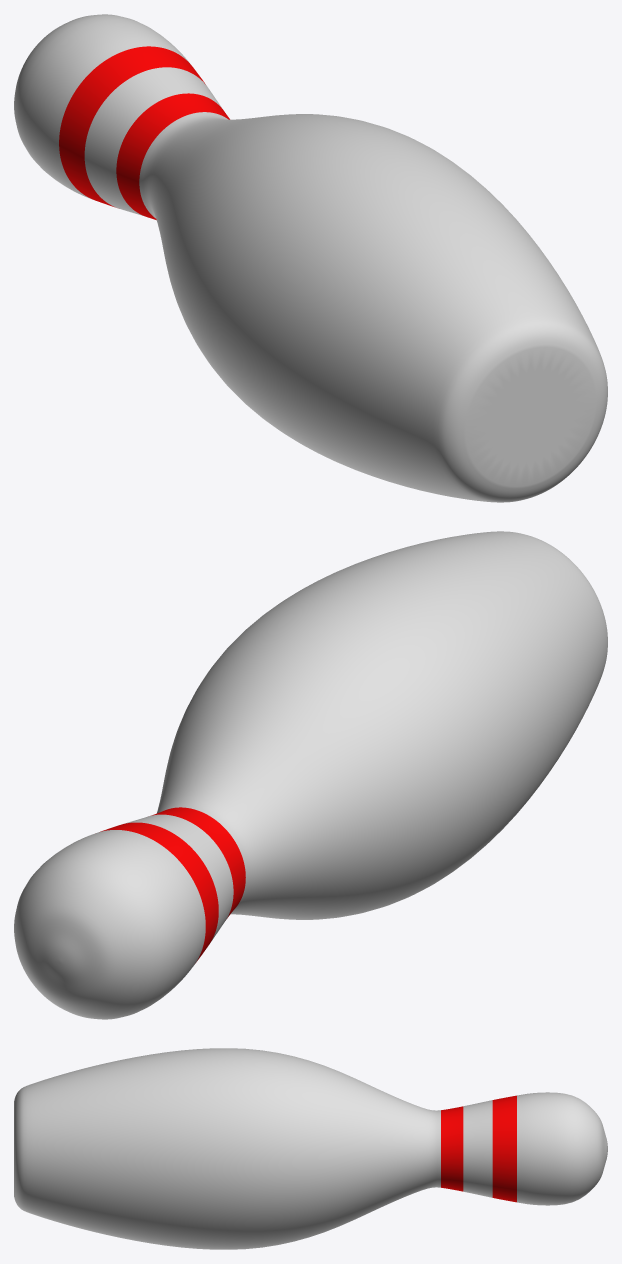
File: pin.fbx
3 views of the same model, one above another, from view 1: azimuth 30°, elevation 25°; view 2: azimuth 150°, elevation 25°; view 3: azimuth 270°, elevation 25° (orthographic). The views are drawn at different scales.
Parts seen in each view (by area): view 1: imagetostl_mesh1; view 2: imagetostl_mesh1; view 3: imagetostl_mesh1.
Part boxes in pixels (bbox=[...]): imagetostl_mesh1: bbox=[14, 14, 607, 502]; imagetostl_mesh1: bbox=[14, 531, 607, 1019]; imagetostl_mesh1: bbox=[14, 1048, 607, 1249].
Bounding box in the file's own units: 114 × 114 × 336.
